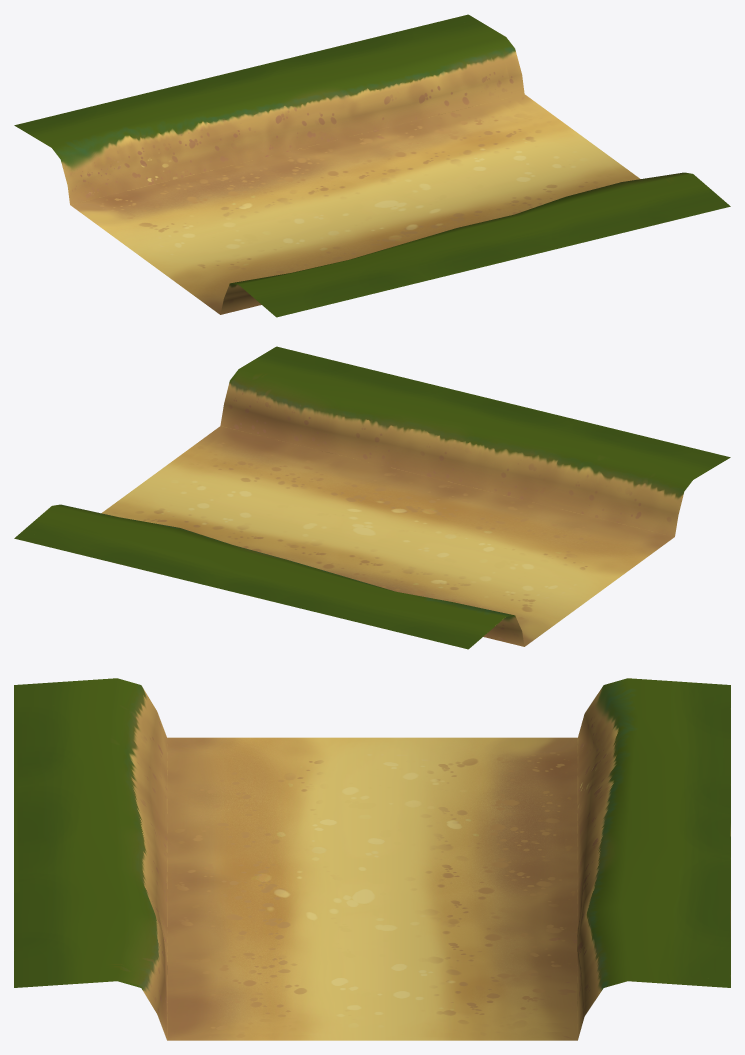
The model's file is RoadStraigth.fbx.
3 renders of one model, top to bottom at view 1: azimuth 30°, elevation 25°; view 2: azimuth 150°, elevation 25°; view 3: azimuth 270°, elevation 25°, orthographic. The views are drawn at different scales.
Parts seen in each view (by area): view 1: Plane.001; view 2: Plane.001; view 3: Plane.001.
Part boxes in pixels (x1=…): Plane.001: x1=14, y1=14, x2=730, y2=317; Plane.001: x1=14, y1=346, x2=730, y2=649; Plane.001: x1=14, y1=678, x2=730, y2=1040.
Bounding box in the file's own units: 1000 × 91.62 × 1000.
